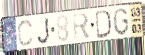8: (56, 13, 71, 44)
C: (17, 19, 35, 48)
D: (95, 9, 112, 40)
G: (112, 7, 130, 37)
J: (36, 16, 51, 45)
R: (72, 11, 92, 42)
